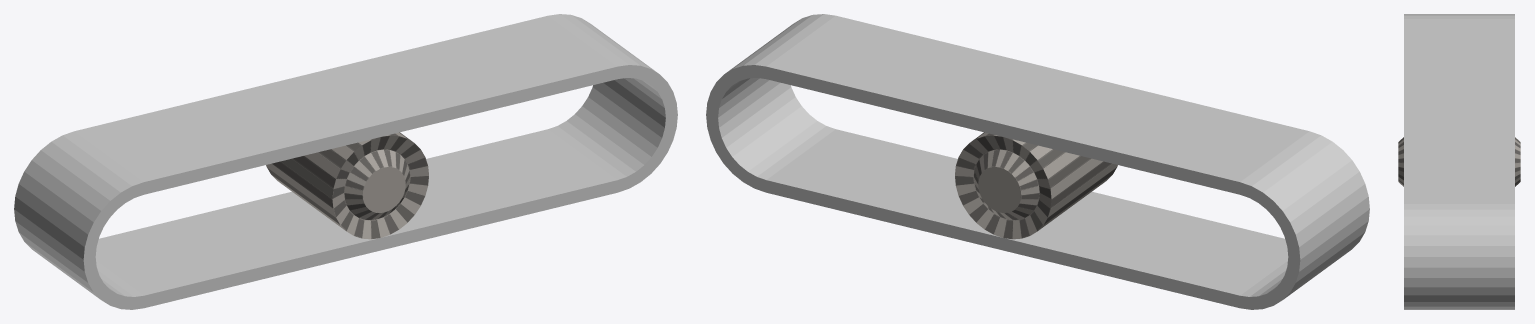
Rendered from conveyor.fbx.
The picture shows the model from 3 angles, left to right: view 1: azimuth 30°, elevation 25°; view 2: azimuth 150°, elevation 25°; view 3: azimuth 270°, elevation 25°; orthographic projection. The views are drawn at different scales.
Parts seen in each view (by area): view 1: Belt, Roll; view 2: Belt, Roll; view 3: Belt, Roll.
Part boxes in pixels (x1,y1,x2,y2): Belt: (14,14,677,309); Roll: (266,132,428,239); Belt: (706,14,1369,309); Roll: (955,132,1117,239); Belt: (1404,14,1514,309); Roll: (1398,137,1520,186).
Bounding box in the file's own units: 9.86 × 2 × 2.2.
